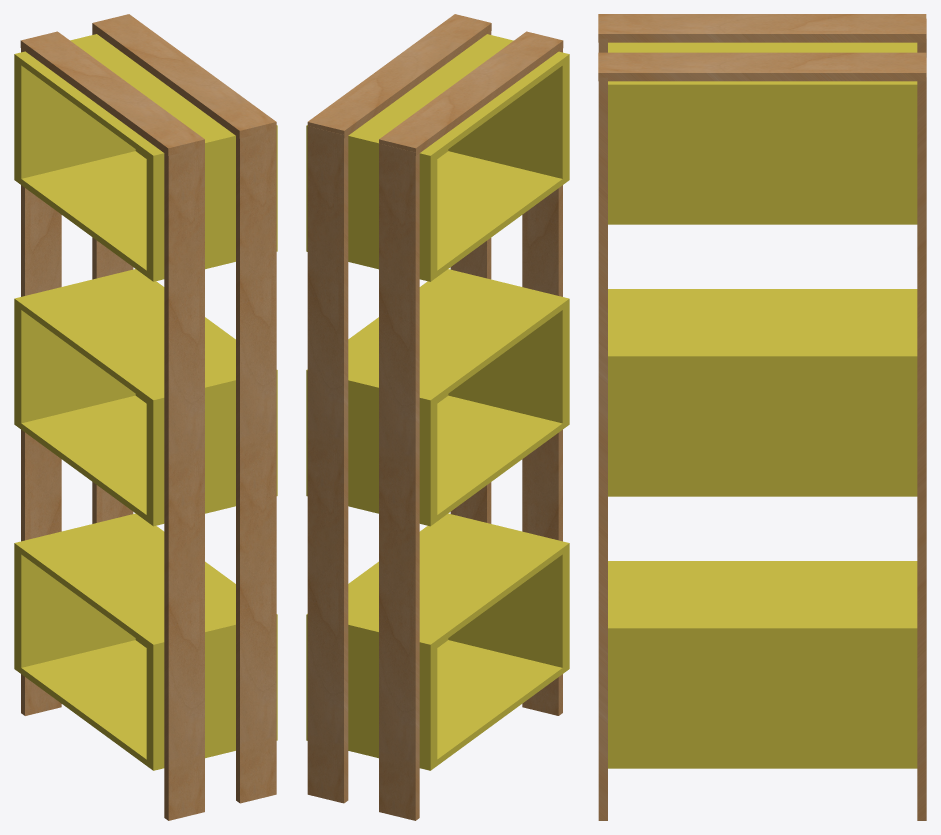
File: bookcase_d8dc0500.glb
The picture shows the model from 3 angles, left to right: view 1: azimuth 30°, elevation 25°; view 2: azimuth 150°, elevation 25°; view 3: azimuth 270°, elevation 25°; orthographic projection. The views are drawn at different scales.
Visible parts, largest first — view 1: Object_2, Object_5, Object_8, Object_3, Object_6, Object_7; view 2: Object_2, Object_5, Object_8, Object_3, Object_7, Object_6; view 3: Object_2, Object_8, Object_7, Object_6.
Boxes of the visible parts, x1=… form: Object_2: x1=14, y1=34, x2=277, y2=770; Object_5: x1=168, y1=122, x2=276, y2=820; Object_8: x1=21, y1=14, x2=276, y2=148; Object_3: x1=25, y1=188, x2=133, y2=715; Object_6: x1=20, y1=23, x2=239, y2=820; Object_7: x1=21, y1=31, x2=96, y2=715; Object_2: x1=306, y1=34, x2=569, y2=770; Object_5: x1=307, y1=126, x2=415, y2=820; Object_8: x1=308, y1=14, x2=562, y2=148; Object_3: x1=307, y1=122, x2=558, y2=715; Object_7: x1=344, y1=136, x2=419, y2=820; Object_6: x1=344, y1=23, x2=563, y2=715; Object_2: x1=608, y1=42, x2=917, y2=768; Object_8: x1=598, y1=14, x2=926, y2=76; Object_7: x1=598, y1=34, x2=926, y2=820; Object_6: x1=917, y1=39, x2=926, y2=820.
Bounding box in the file's own units: 34 × 176 × 70.
7 materials, 6 textured.
